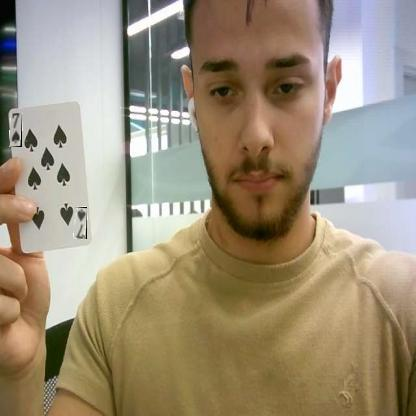7S: (10, 113, 22, 148), (74, 207, 87, 239)
